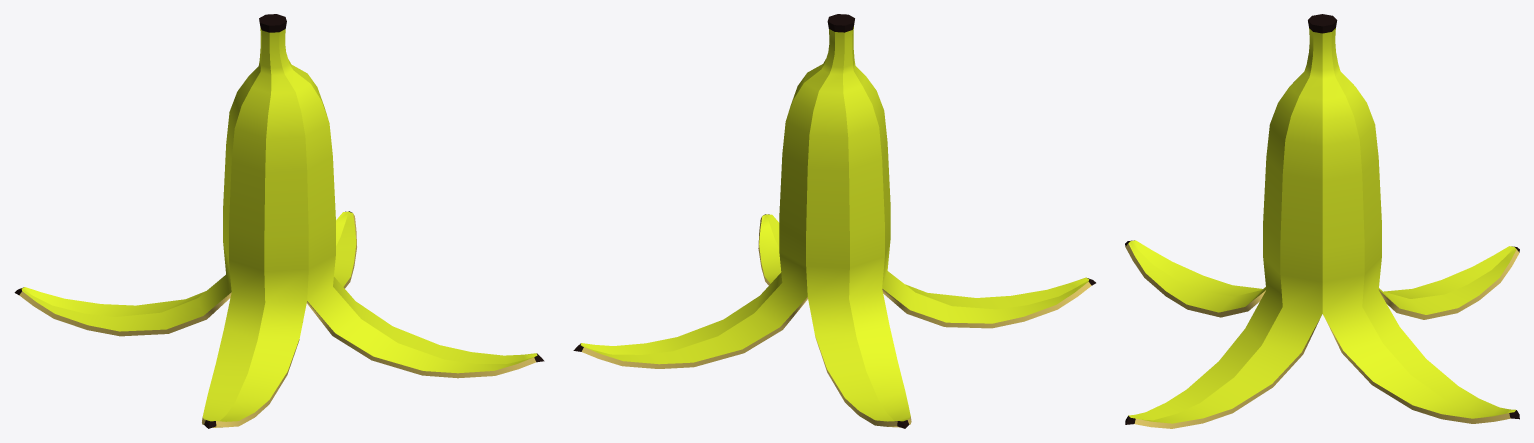
Rendered from Banana.FBX.
The picture shows the model from 3 angles, left to right: view 1: azimuth 30°, elevation 25°; view 2: azimuth 150°, elevation 25°; view 3: azimuth 270°, elevation 25°; orthographic projection. The views are drawn at different scales.
Parts seen in each view (by area): view 1: Banana; view 2: Banana; view 3: Banana.
Boxes of the visible parts, <box> form: Banana: <box>14,14,544,428</box>; Banana: <box>573,14,1095,428</box>; Banana: <box>1125,14,1519,428</box>.
Size of the model in its own units: 18.47 by 17.23 by 18.47.
